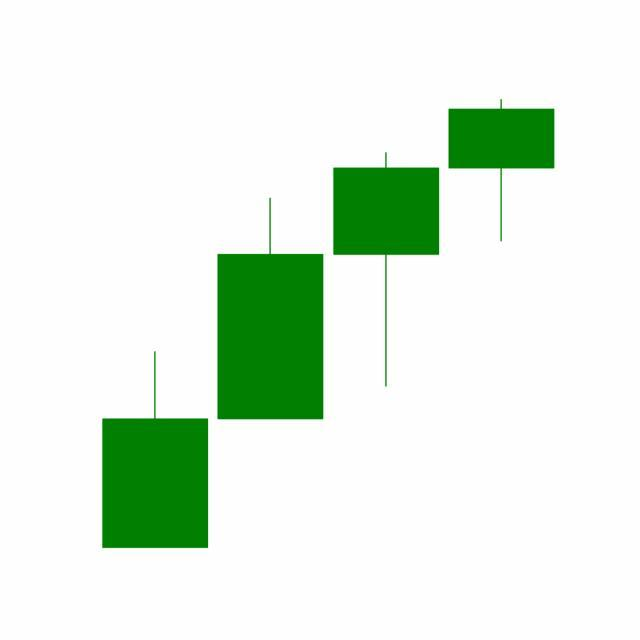Hanging Man: (444, 98, 560, 244)
